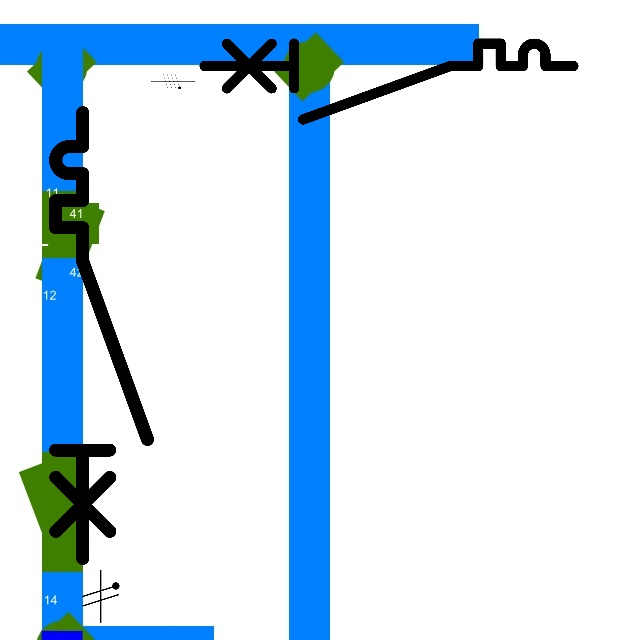interruptor_termomagnetico: (44, 101, 158, 569), (194, 34, 582, 129)
